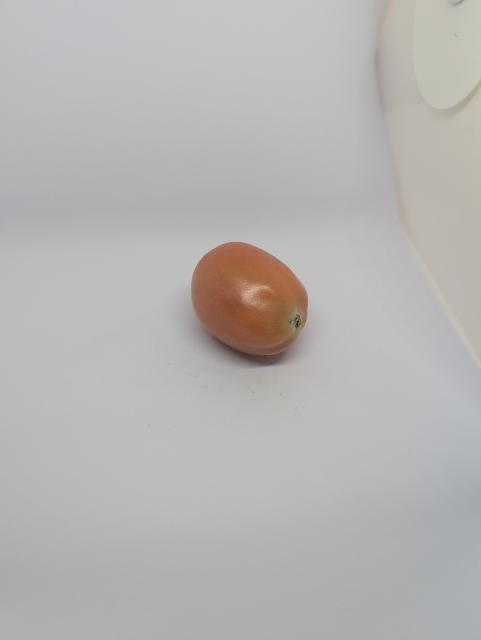turning: (187, 239, 317, 362)
